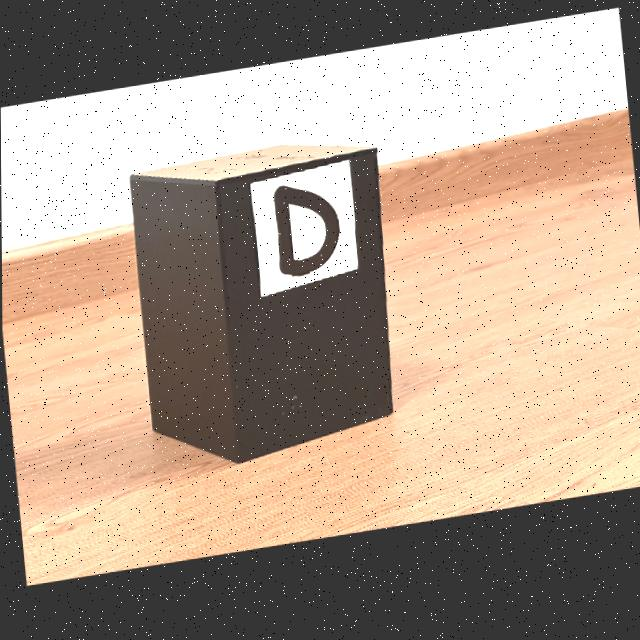D: (273, 190, 338, 280)
